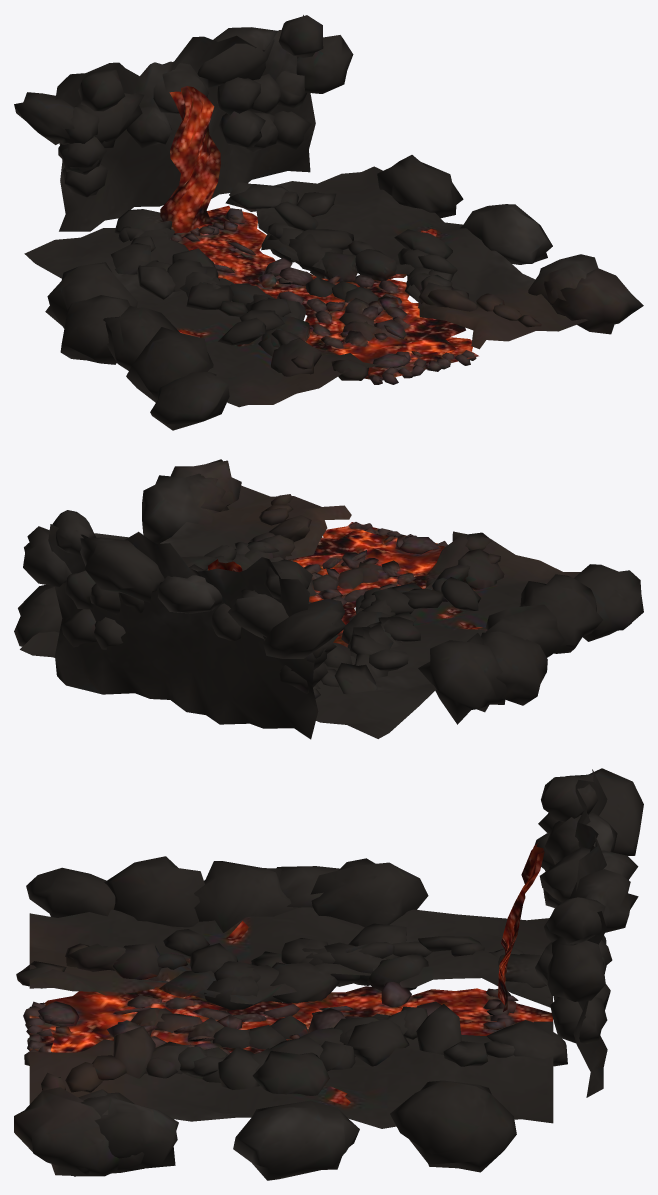
File: b4lod_magma_bank_p2.glb
3 views of the same model, one above another, from view 1: azimuth 30°, elevation 25°; view 2: azimuth 150°, elevation 25°; view 3: azimuth 270°, elevation 25° (orthographic). The views are drawn at different scales.
Parts seen in each view (by area): view 1: b4lod_magma_bank_p2; view 2: b4lod_magma_bank_p2; view 3: b4lod_magma_bank_p2.
Boxes of the visible parts, x1,y1,x2,y2 form: b4lod_magma_bank_p2: [14, 15, 643, 430]; b4lod_magma_bank_p2: [14, 459, 643, 739]; b4lod_magma_bank_p2: [14, 768, 643, 1180].
Bounding box in the file's own units: 8.48 × 3.28 × 8.06.
1 material, 1 textured.
